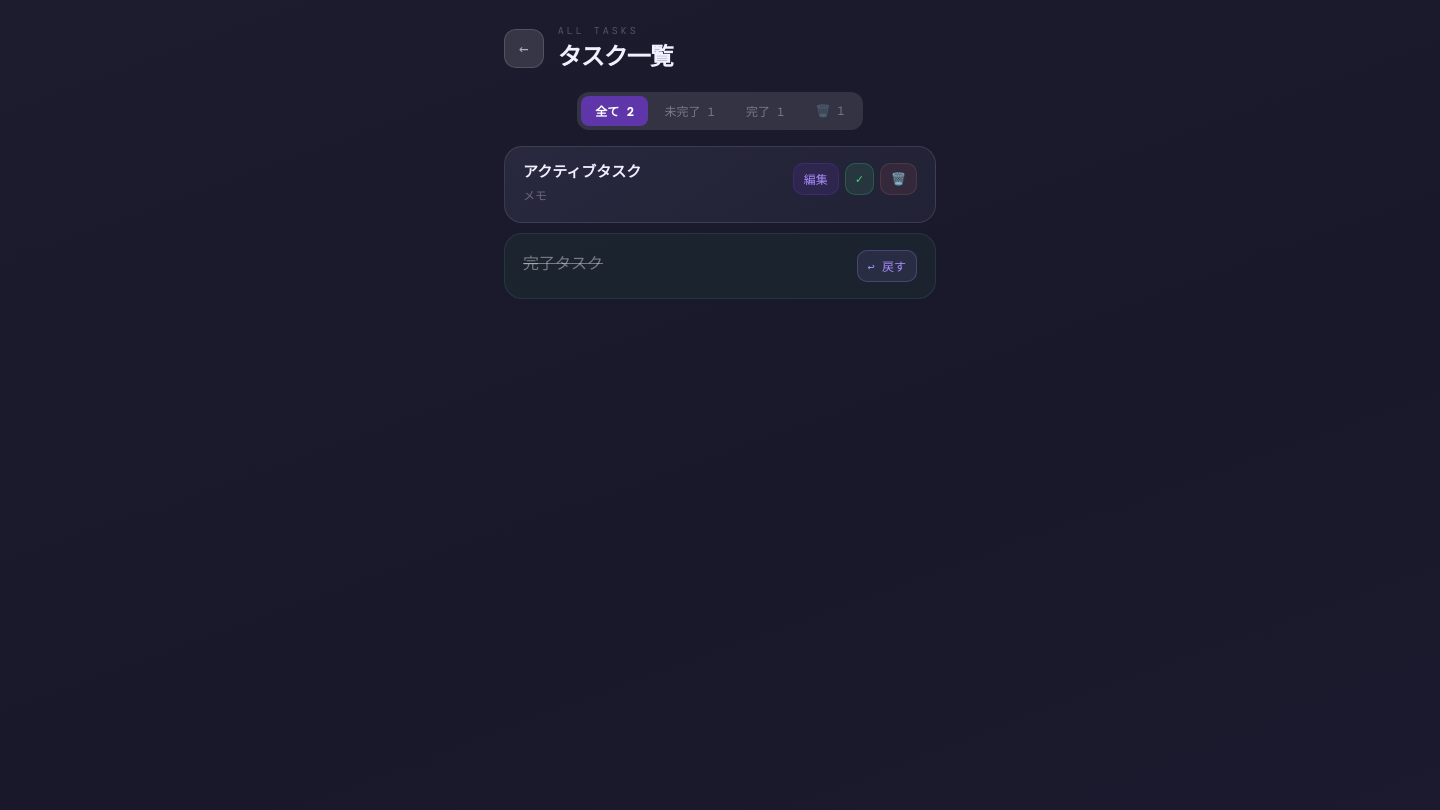
Test case: ListView — アクティブタスクのアクション › 編集ボタンで EditModal が開く
The width and height of the screenshot is (1440, 810).
Click the button "未完了 1". click: (690, 111)
box: [651,96,729,126]
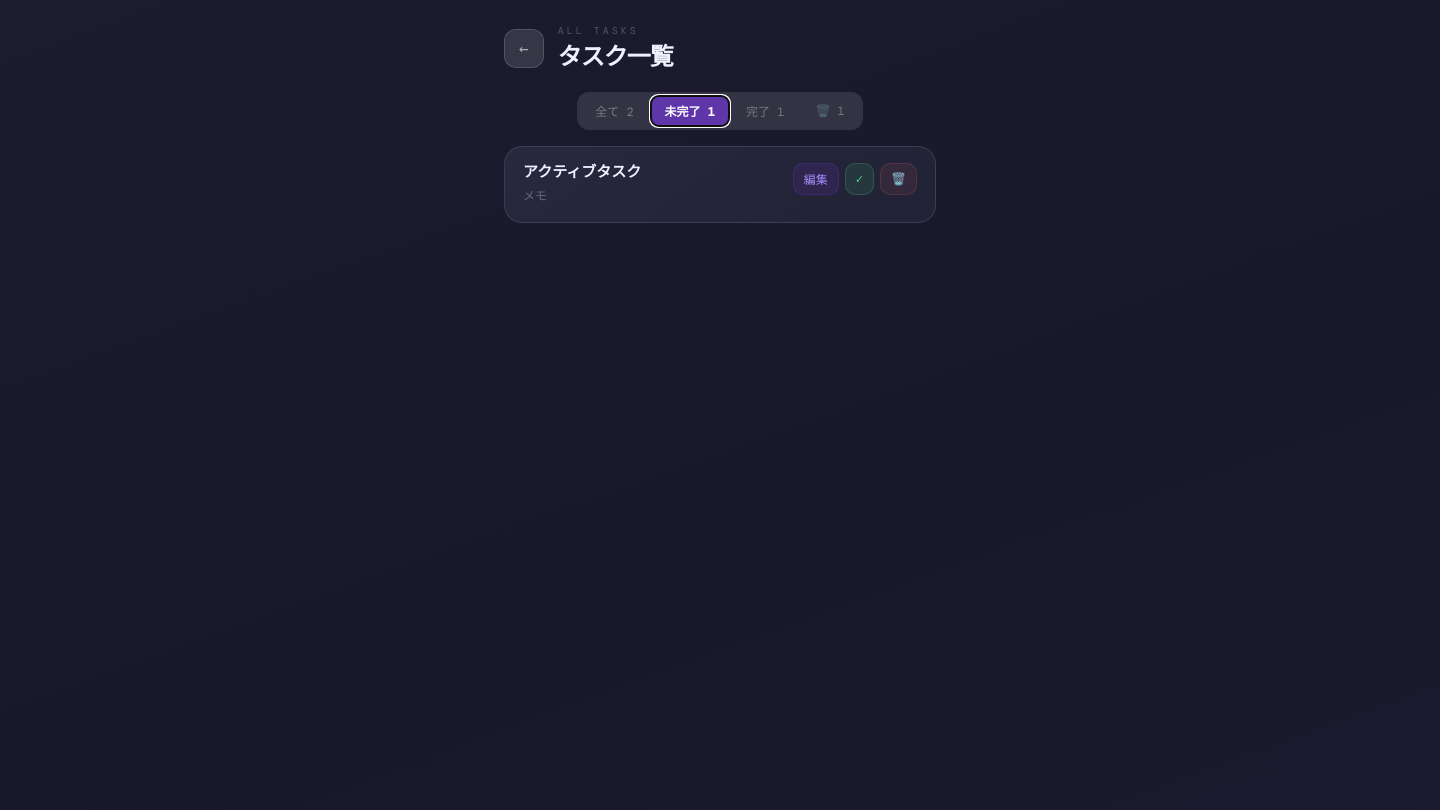
Click the button "編集". click: (816, 179)
box: [793,163,839,195]
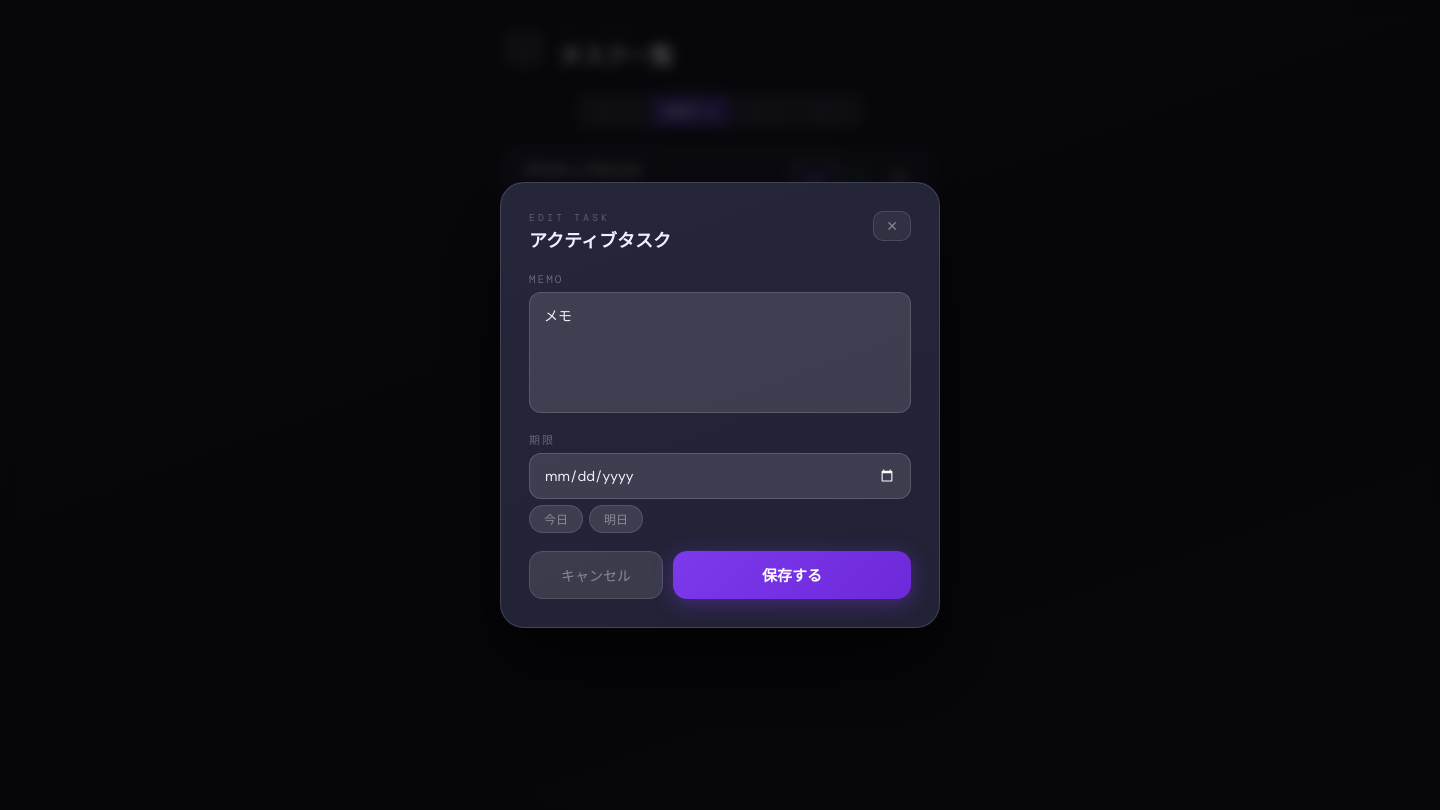
Expected: the text "EDIT TASK" is shown, [529,211,610,224]
